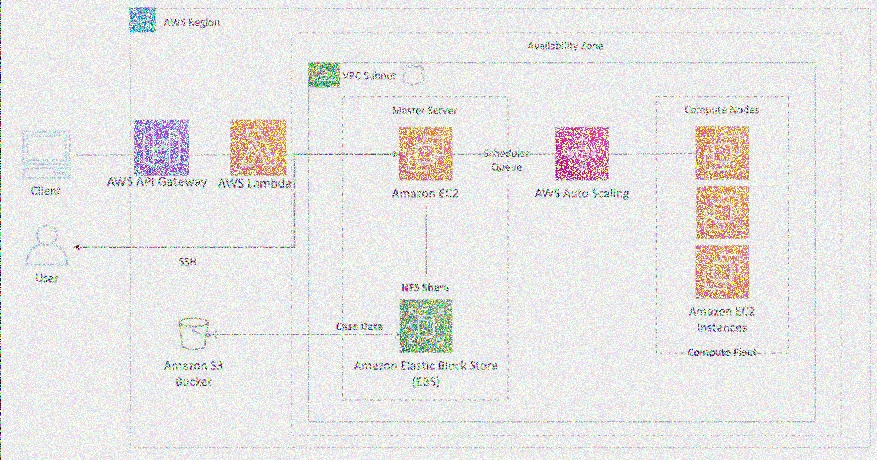API-Gateway: (129, 114, 197, 179)
Auto Scaling: (552, 123, 611, 184)
EC2: (396, 122, 458, 184), (692, 121, 753, 184), (692, 243, 752, 302), (693, 185, 752, 241)
Lambda: (225, 115, 290, 178)
RDS: (397, 294, 457, 355)
Region: (128, 1, 160, 35)
Route53: (398, 62, 433, 93)
S3: (174, 311, 213, 355)
Users: (19, 218, 72, 271)
Web Clients: (16, 124, 77, 184)
